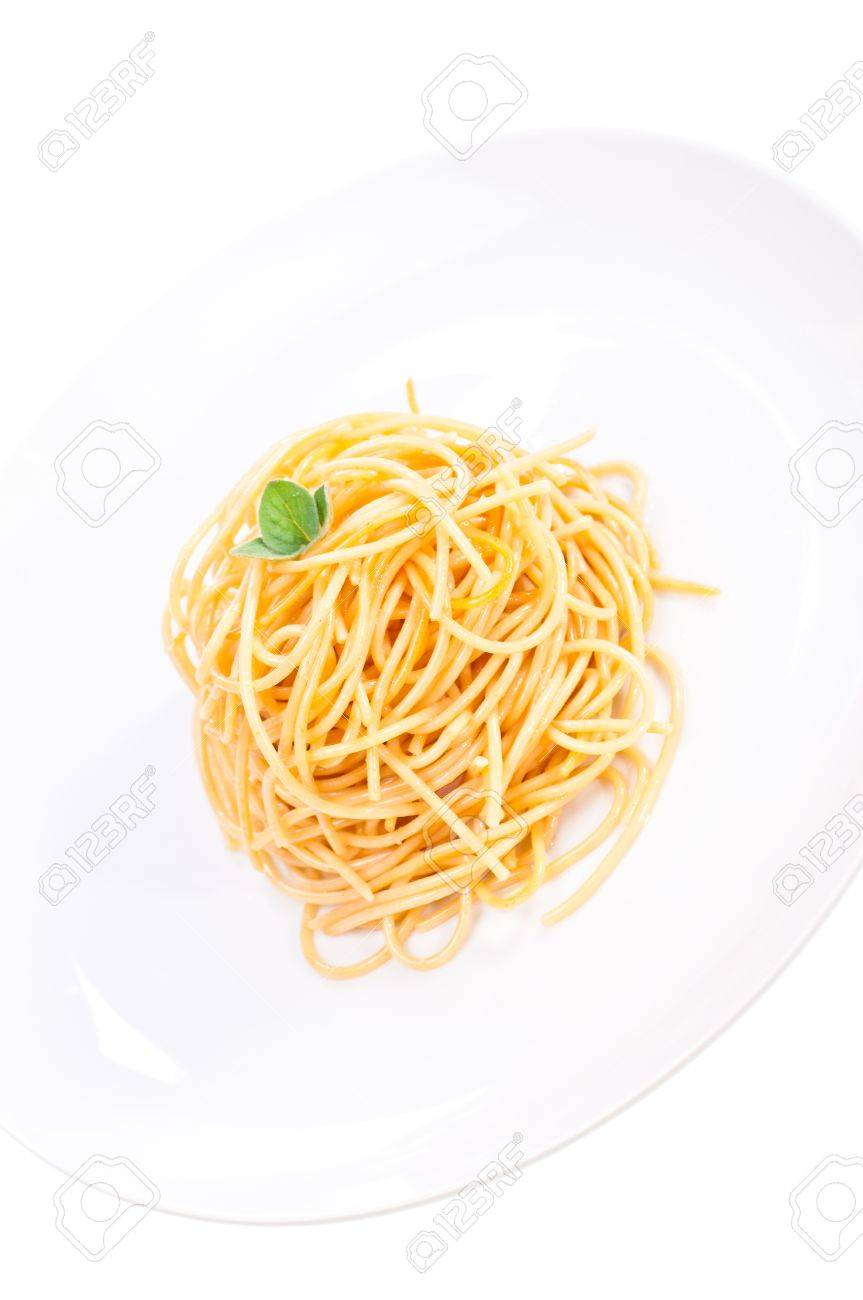plain spaghetti: (192, 432, 658, 950)
